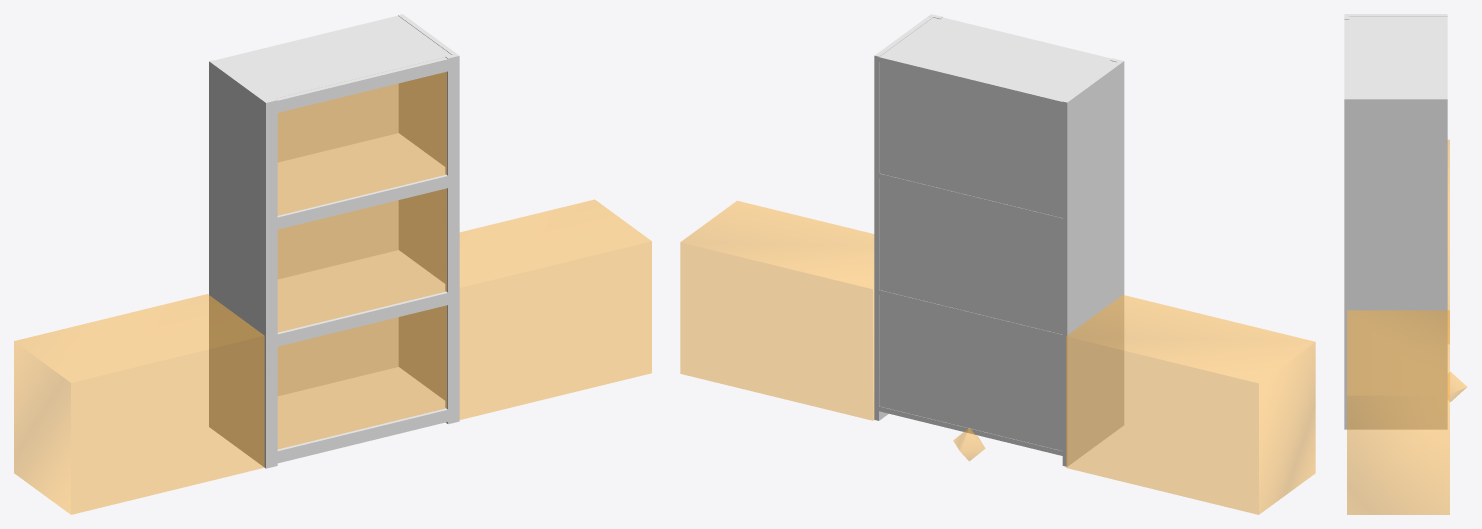
The picture shows the model from 3 angles, left to right: view 1: azimuth 30°, elevation 25°; view 2: azimuth 150°, elevation 25°; view 3: azimuth 270°, elevation 25°; orthographic projection. The views are drawn at different scales.
Visible parts, largest first — view 1: wood015, _asbook_1, _asbook_0, wood_, _as1_03, _as1_06, _as1_1; view 2: wood015, _asbook_1, _asbook_0, wood_; view 3: wood015, _asbook_0, wood_, _asbook_1, _asenv_0.
Boxes of the visible parts, x1,y1,x2,y2 form: wood015: (209, 14, 456, 465); _asbook_1: (14, 294, 264, 514); _asbook_0: (459, 199, 651, 419); wood_: (263, 54, 459, 468); _as1_03: (277, 188, 446, 332); _as1_06: (277, 72, 446, 215); _as1_1: (277, 305, 446, 449); wood015: (874, 16, 1121, 466); _asbook_1: (1066, 295, 1315, 514); _asbook_0: (680, 200, 874, 420); wood_: (929, 14, 1124, 426); wood015: (1349, 14, 1447, 429); _asbook_0: (1347, 310, 1449, 514); wood_: (1344, 14, 1349, 429); _asbook_1: (1447, 139, 1449, 343); _asenv_0: (1448, 372, 1466, 401).
Bounding box in the file's own units: 2 × 1.26 × 0.4057.
